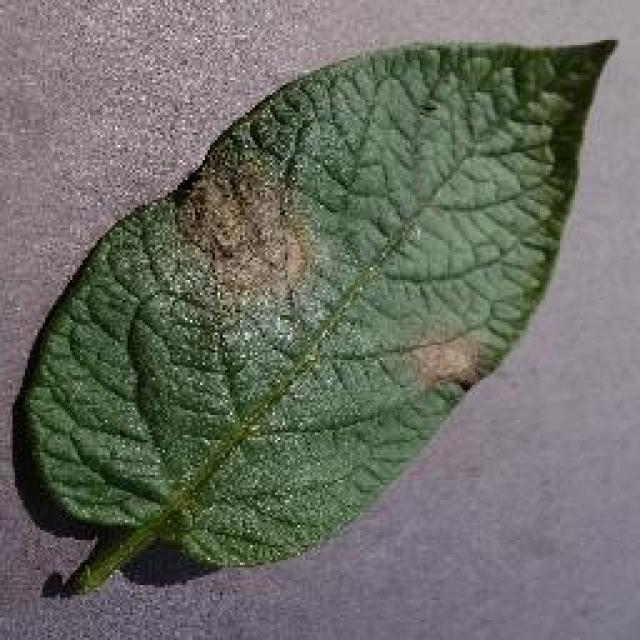late_blight: (8, 33, 620, 595)
